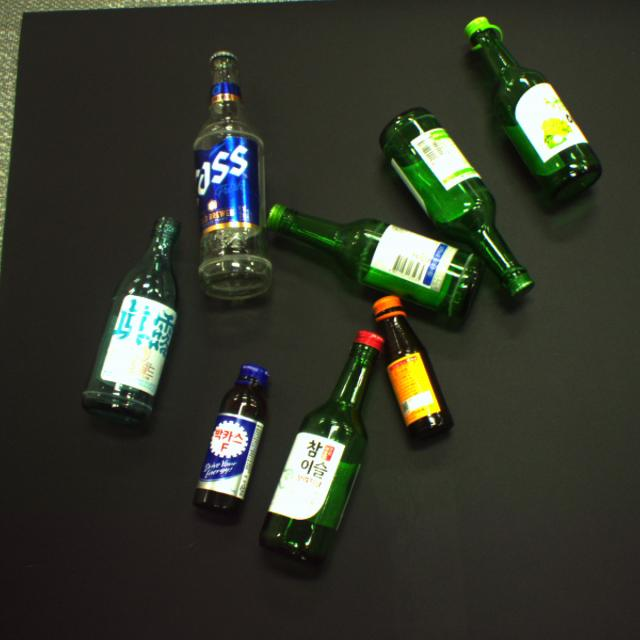beer-bottle: (194, 52, 271, 300)
soju-bottle: (380, 108, 533, 294), (261, 330, 385, 559), (266, 205, 481, 325), (466, 19, 601, 199), (83, 217, 179, 423)
